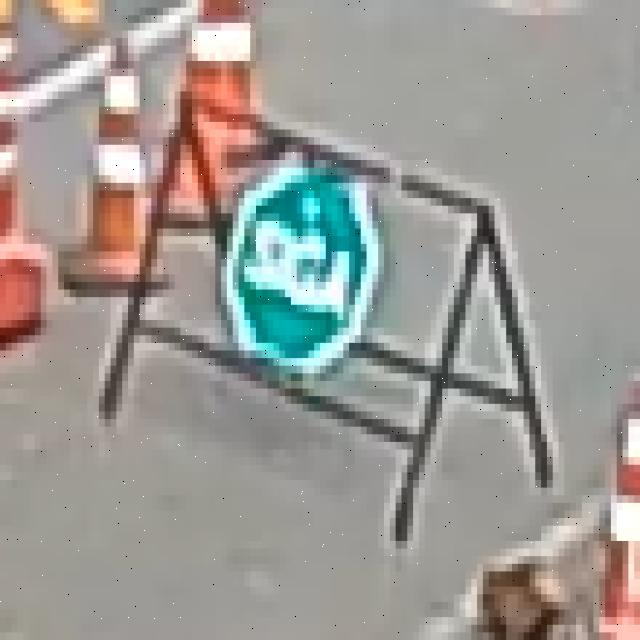go_sign: (215, 152, 390, 381)
small_cone: (64, 76, 157, 297)
